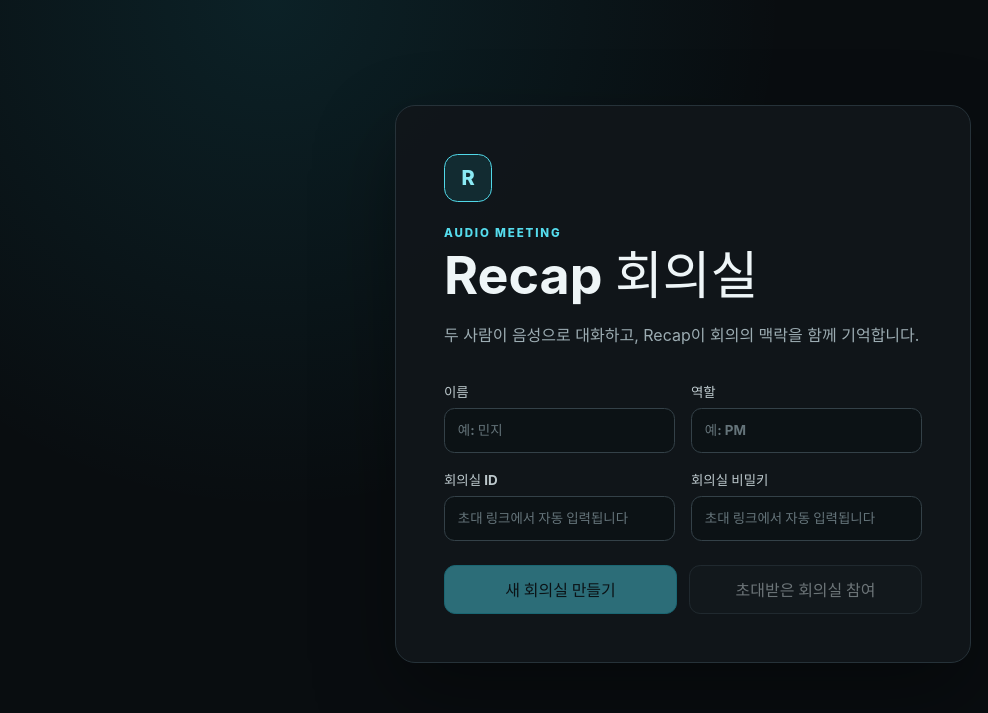
Test case: Lobby › keeps input and allows retry after a recoverable create error
In the field with test id "display-name": (560, 430) [444,408,675,453], type "민지"
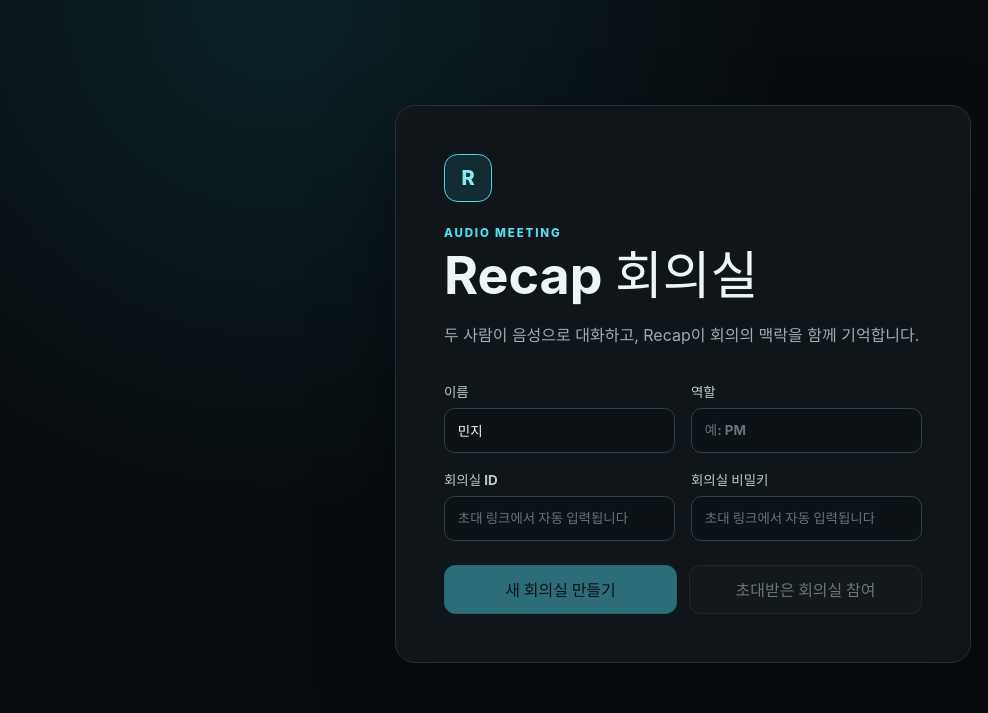
In the field with test id "role-label": (806, 430) [691,408,922,453], type "PM"
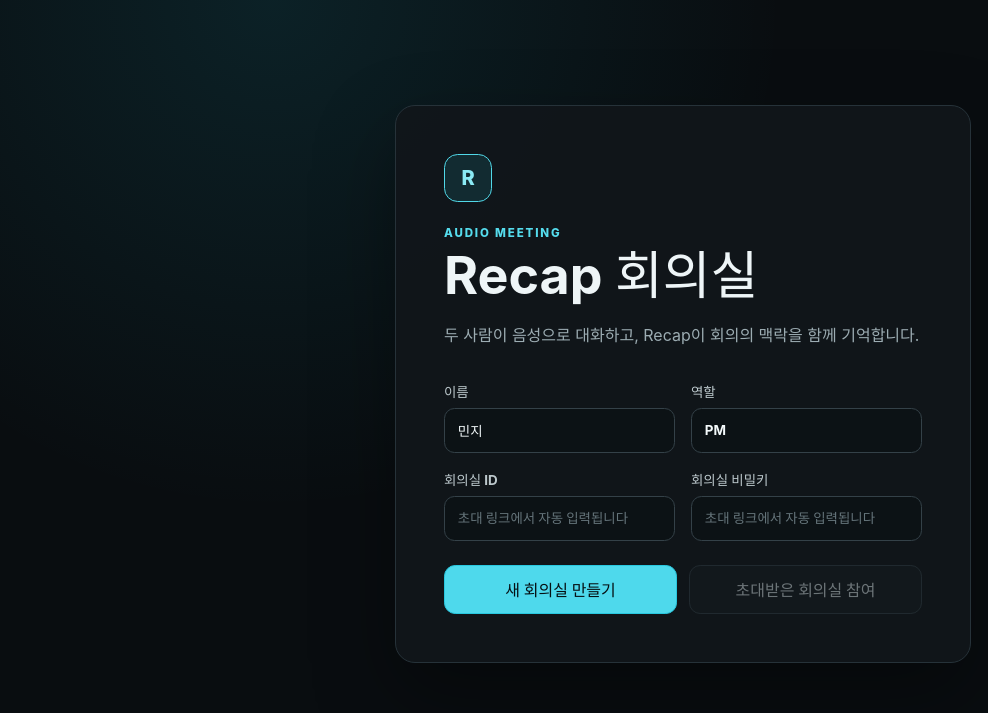
Click the button with test id "create-room": click(560, 589) [444,565,677,614]
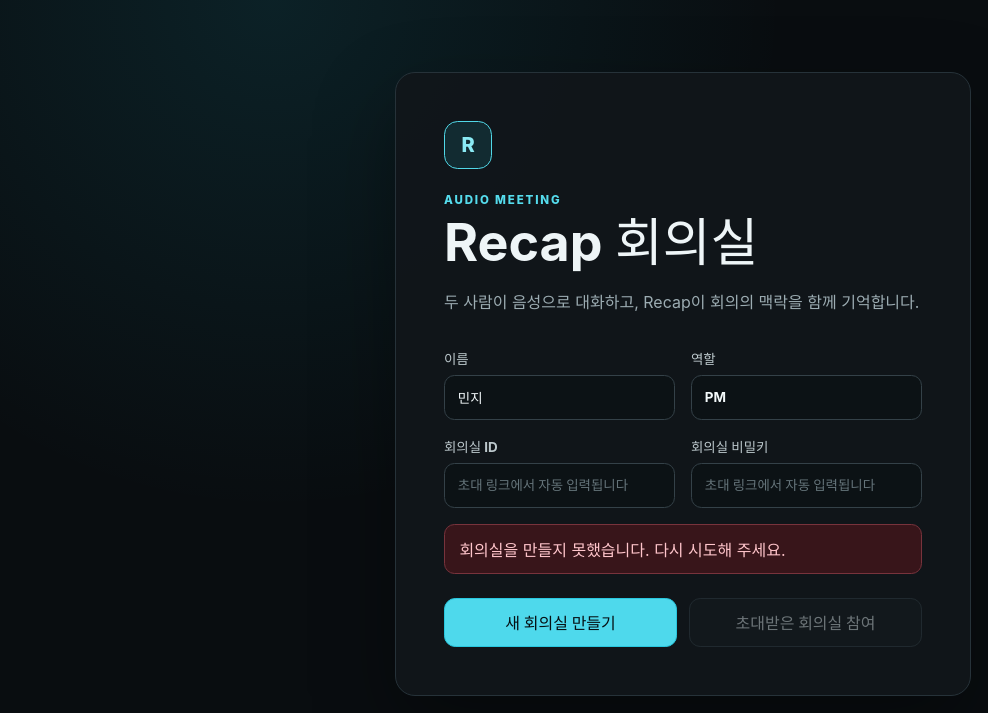
Expected: the button with test id "create-room" is enabled
Expected: the text "회의실을 만들지 못했습니다. 다시 시도해 주세요." is shown, [444,524,922,574]
Click the button with test id "create-room": click(560, 622) [444,598,677,647]
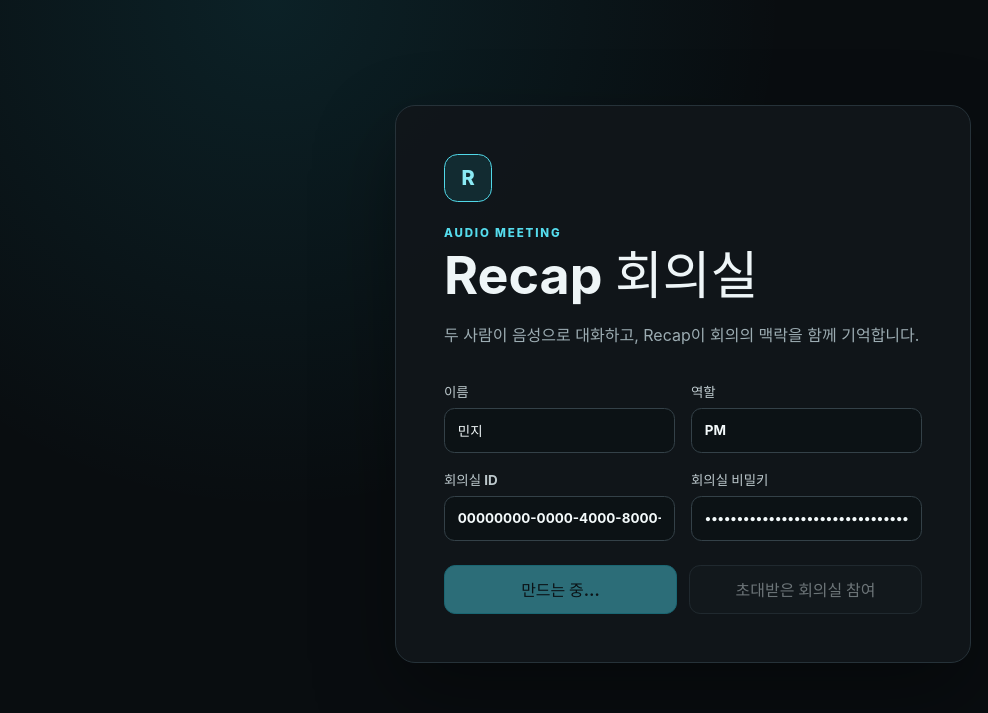
Expected: the text "회의실을 만들지 못했습니다. 다시 시도해 주세요." is gone
